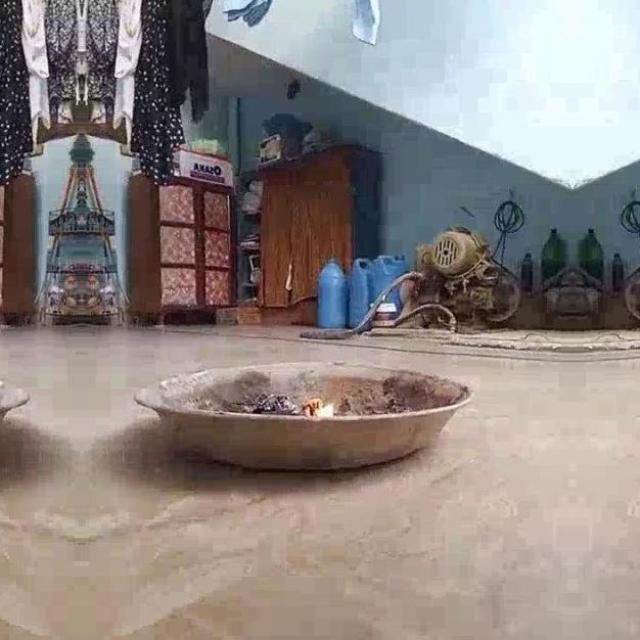smoke: (305, 397, 339, 417)
